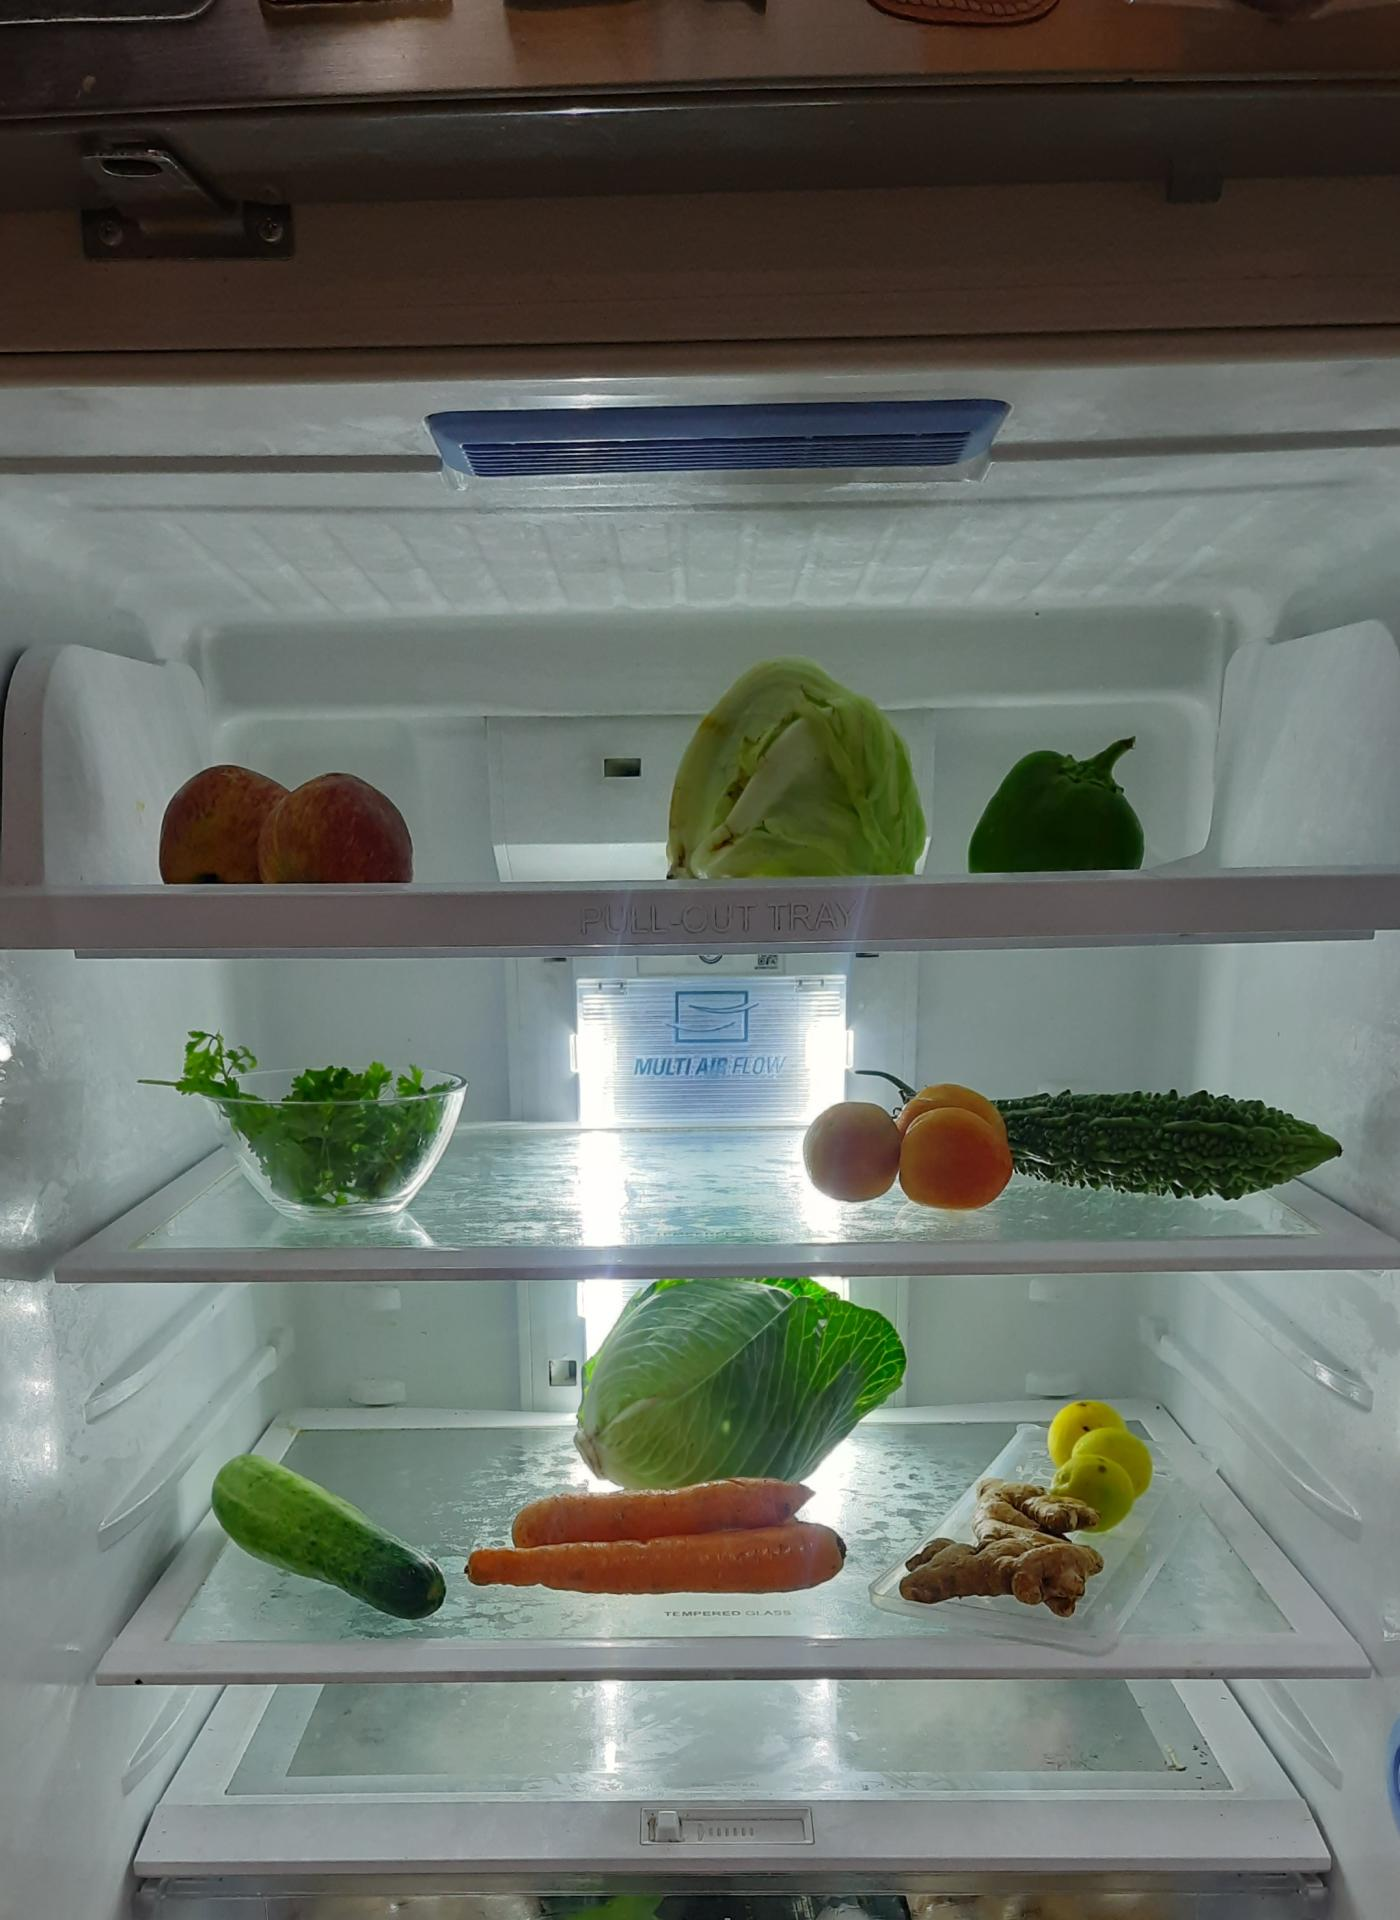apple: (157, 762, 419, 884)
bitter gourd: (978, 1069, 1354, 1193)
cabbage: (567, 1282, 906, 1491)
capsicum: (968, 726, 1151, 872)
carrots: (462, 1485, 854, 1601)
coriander: (173, 1036, 468, 1230)
cucumber: (209, 1443, 455, 1626)
ginger: (898, 1485, 1106, 1617)
lemon: (1042, 1398, 1158, 1512)
lettuce: (655, 654, 924, 881)
tomato: (801, 1070, 1014, 1199)
